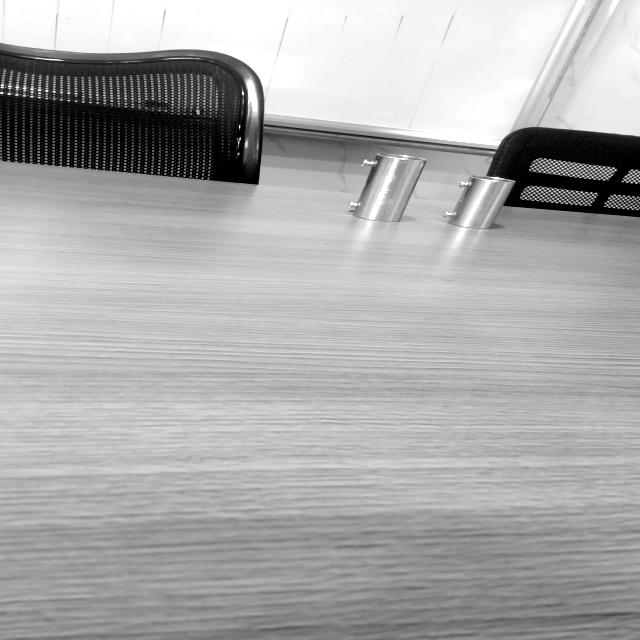Co_Lon: (347, 140, 427, 234)
Co_Nho: (443, 160, 516, 242)
